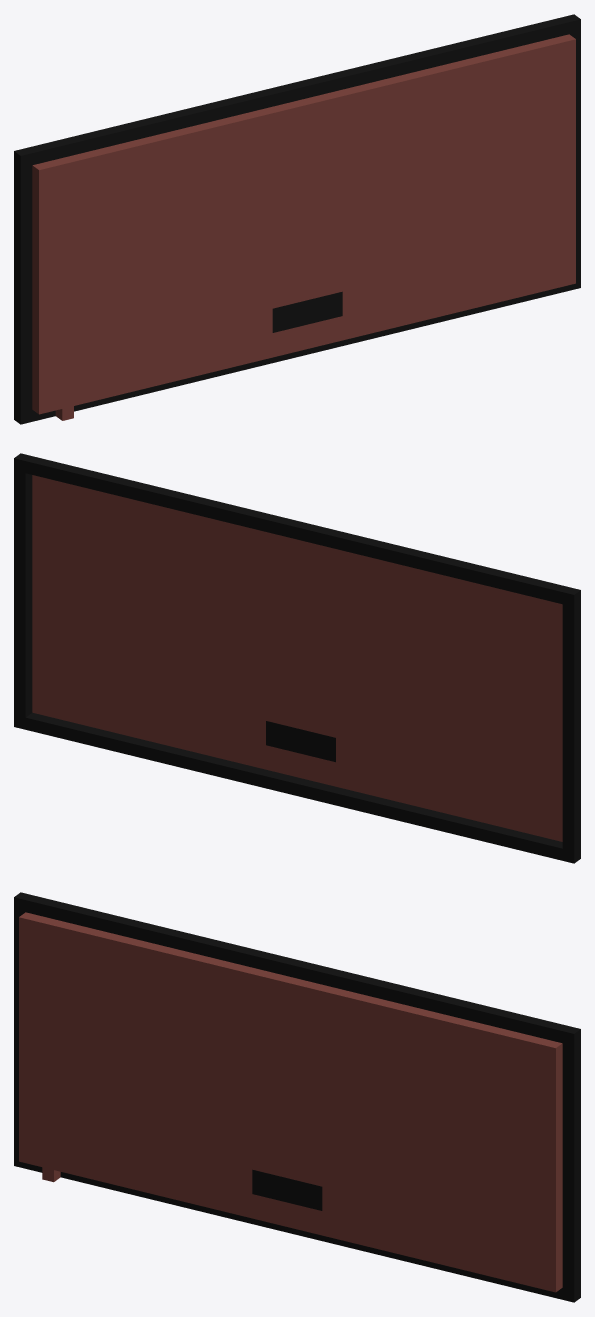
The model's file is coach_luggage_door.glb.
The picture shows the model from 3 angles, top to bottom: view 1: azimuth 30°, elevation 25°; view 2: azimuth 150°, elevation 25°; view 3: azimuth 330°, elevation 25°; orthographic projection.
Parts seen in each view (by area): view 1: body:compound; view 2: body:compound; view 3: body:compound.
Part boxes in pixels (x1,y1,x2,y2): body:compound: (14,14,580,424); body:compound: (14,453,580,863); body:compound: (14,892,580,1302).
Size of the model in its own units: 1.5 by 0.6875 by 0.0625.
